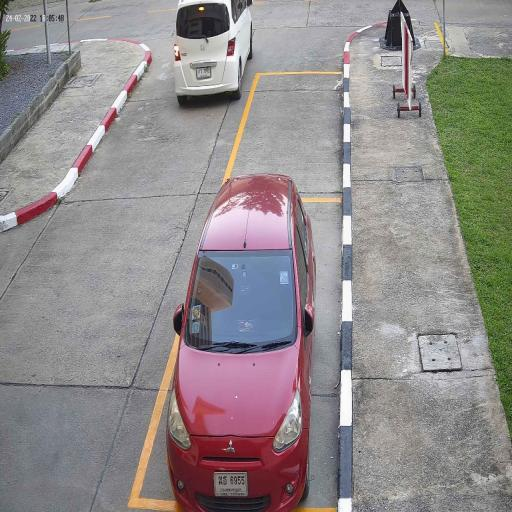car: (164, 168, 318, 512), (172, 0, 256, 106)
